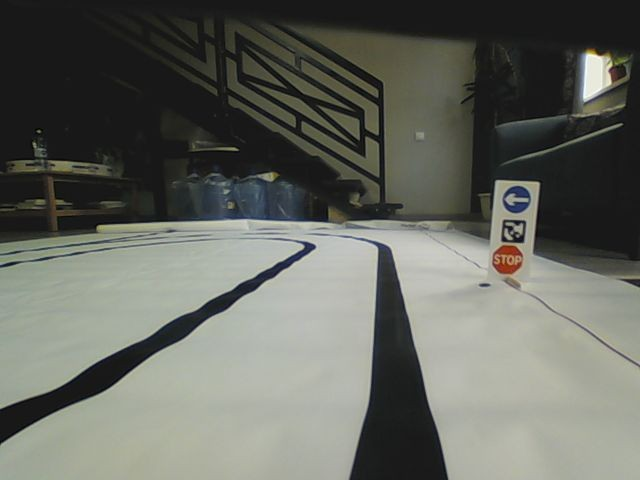Stop: (490, 244, 524, 274)
